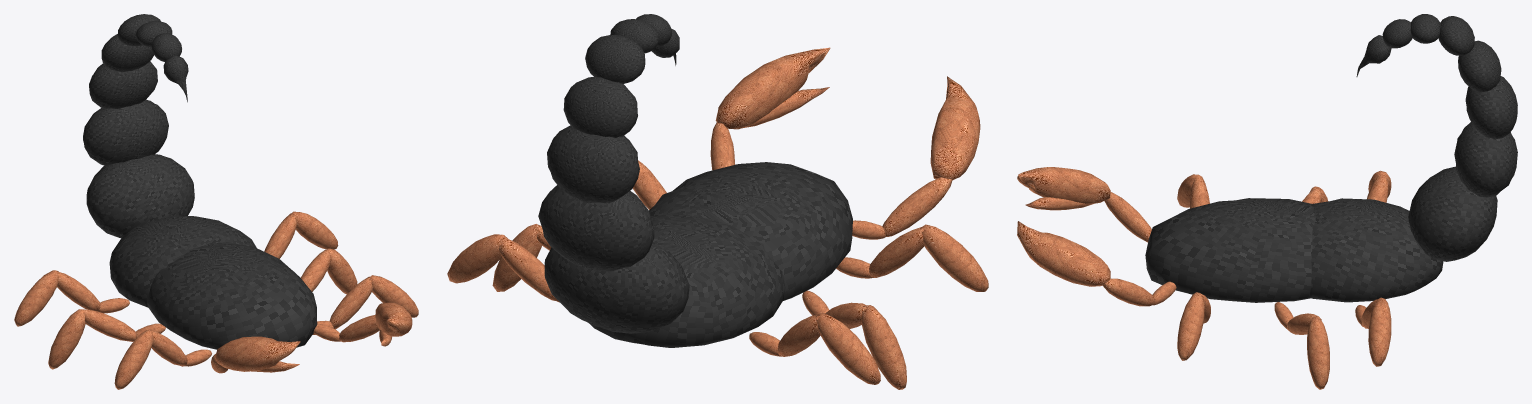
File: scorpion_000014.obj
The picture shows the model from 3 angles, left to right: view 1: azimuth 30°, elevation 25°; view 2: azimuth 150°, elevation 25°; view 3: azimuth 270°, elevation 25°; orthographic projection. The views are drawn at different scales.
Parts seen in each view (by area): view 1: Sphere.010_Sphere.012, Sphere.002_Sphere.004, Sphere.011_Sphere.013, Sphere.003_Sphere.005, Sphere.030_Sphere.000, Sphere.004_Sphere.006, Sphere.014_Sphere.023, Sphere.000_Sphere.019, Sphere.012_Sphere.020, Sphere.013_Sphere.017, Sphere.018_Sphere.025, Sphere.016_Sphere.022 (+9 smaller); view 2: Sphere.010_Sphere.012, Sphere.011_Sphere.013, Sphere.002_Sphere.004, Sphere.030_Sphere.000, Sphere.003_Sphere.005, Sphere.004_Sphere.006, Sphere.014_Sphere.023, Sphere.005_Sphere.007, Sphere.012_Sphere.020, Sphere.028_Sphere.046, Sphere.018_Sphere.025, Sphere.006_Sphere.008 (+9 smaller); view 3: Sphere.010_Sphere.012, Sphere.011_Sphere.013, Sphere.002_Sphere.004, Sphere.030_Sphere.000, Sphere.003_Sphere.005, Sphere.004_Sphere.006, Sphere.028_Sphere.046, Sphere.000_Sphere.019, Sphere.005_Sphere.007, Sphere.014_Sphere.023, Sphere.012_Sphere.020, Sphere.006_Sphere.008 (+7 smaller).
Part boxes in pixels (x1=…): Sphere.010_Sphere.012: x1=147, y1=242, x2=317, y2=349; Sphere.002_Sphere.004: x1=86, y1=154, x2=194, y2=238; Sphere.011_Sphere.013: x1=109, y1=216, x2=256, y2=307; Sphere.003_Sphere.005: x1=83, y1=99, x2=168, y2=165; Sphere.030_Sphere.000: x1=215, y1=302, x2=412, y2=371; Sphere.004_Sphere.006: x1=89, y1=61, x2=157, y2=108; Sphere.014_Sphere.023: x1=14, y1=211, x2=338, y2=326; Sphere.000_Sphere.019: x1=114, y1=275, x2=418, y2=389; Sphere.012_Sphere.020: x1=48, y1=248, x2=357, y2=369; Sphere.013_Sphere.017: x1=151, y1=276, x2=372, y2=366; Sphere.018_Sphere.025: x1=57, y1=213, x2=296, y2=311; Sphere.016_Sphere.022: x1=83, y1=249, x2=331, y2=341; Sphere.010_Sphere.012: x1=649, y1=162, x2=852, y2=300; Sphere.011_Sphere.013: x1=589, y1=213, x2=785, y2=347; Sphere.002_Sphere.004: x1=544, y1=241, x2=689, y2=333; Sphere.030_Sphere.000: x1=715, y1=47, x2=980, y2=180; Sphere.003_Sphere.005: x1=538, y1=185, x2=654, y2=271; Sphere.004_Sphere.006: x1=547, y1=125, x2=639, y2=203; Sphere.014_Sphere.023: x1=447, y1=234, x2=880, y2=384; Sphere.005_Sphere.007: x1=563, y1=76, x2=637, y2=137; Sphere.012_Sphere.020: x1=492, y1=224, x2=906, y2=389; Sphere.028_Sphere.046: x1=710, y1=122, x2=952, y2=236; Sphere.018_Sphere.025: x1=499, y1=238, x2=820, y2=356; Sphere.006_Sphere.008: x1=585, y1=34, x2=645, y2=83; Sphere.010_Sphere.012: x1=1145, y1=198, x2=1315, y2=302; Sphere.011_Sphere.013: x1=1310, y1=198, x2=1443, y2=302; Sphere.002_Sphere.004: x1=1408, y1=166, x2=1497, y2=261; Sphere.030_Sphere.000: x1=1017, y1=167, x2=1110, y2=286; Sphere.003_Sphere.005: x1=1454, y1=122, x2=1517, y2=197; Sphere.004_Sphere.006: x1=1465, y1=76, x2=1517, y2=139; Sphere.028_Sphere.046: x1=1102, y1=192, x2=1154, y2=306; Sphere.000_Sphere.019: x1=1177, y1=174, x2=1204, y2=360; Sphere.005_Sphere.007: x1=1458, y1=40, x2=1501, y2=92; Sphere.014_Sphere.023: x1=1368, y1=170, x2=1391, y2=366; Sphere.012_Sphere.020: x1=1307, y1=186, x2=1329, y2=389; Sphere.006_Sphere.008: x1=1438, y1=16, x2=1474, y2=55.
Size of the model in its own units: 0.9619 by 0.7815 by 1.21.
2 materials, 2 textured.
